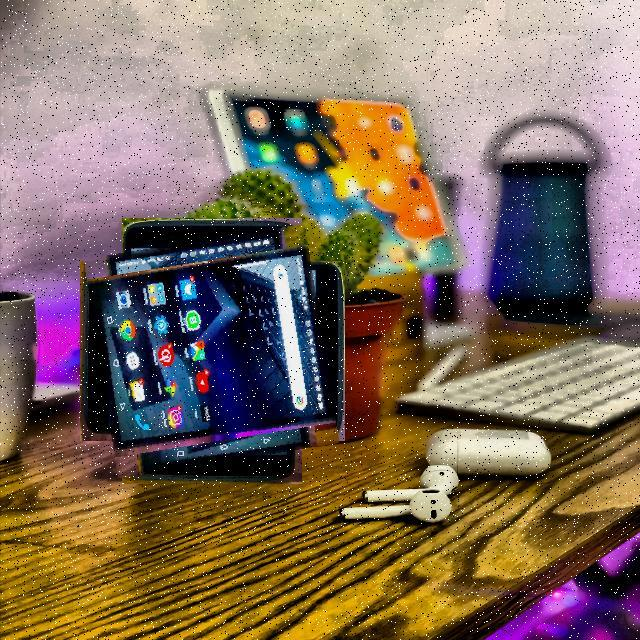Phone: (92, 232, 332, 470)
